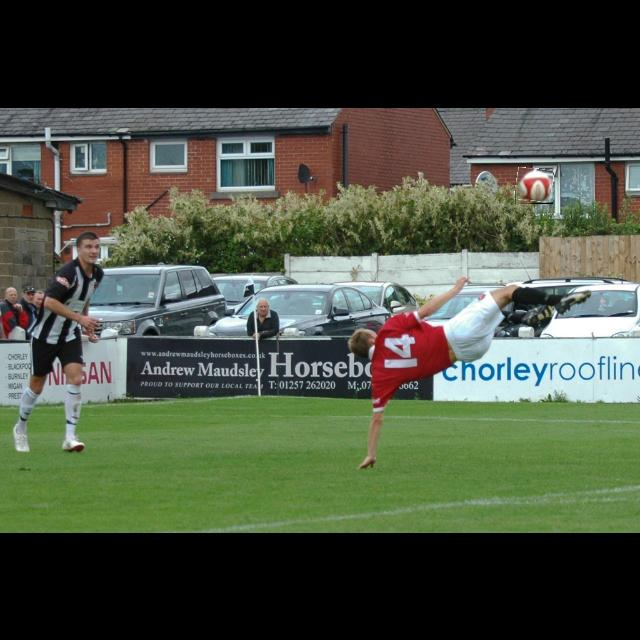Football: (515, 168, 553, 204)
